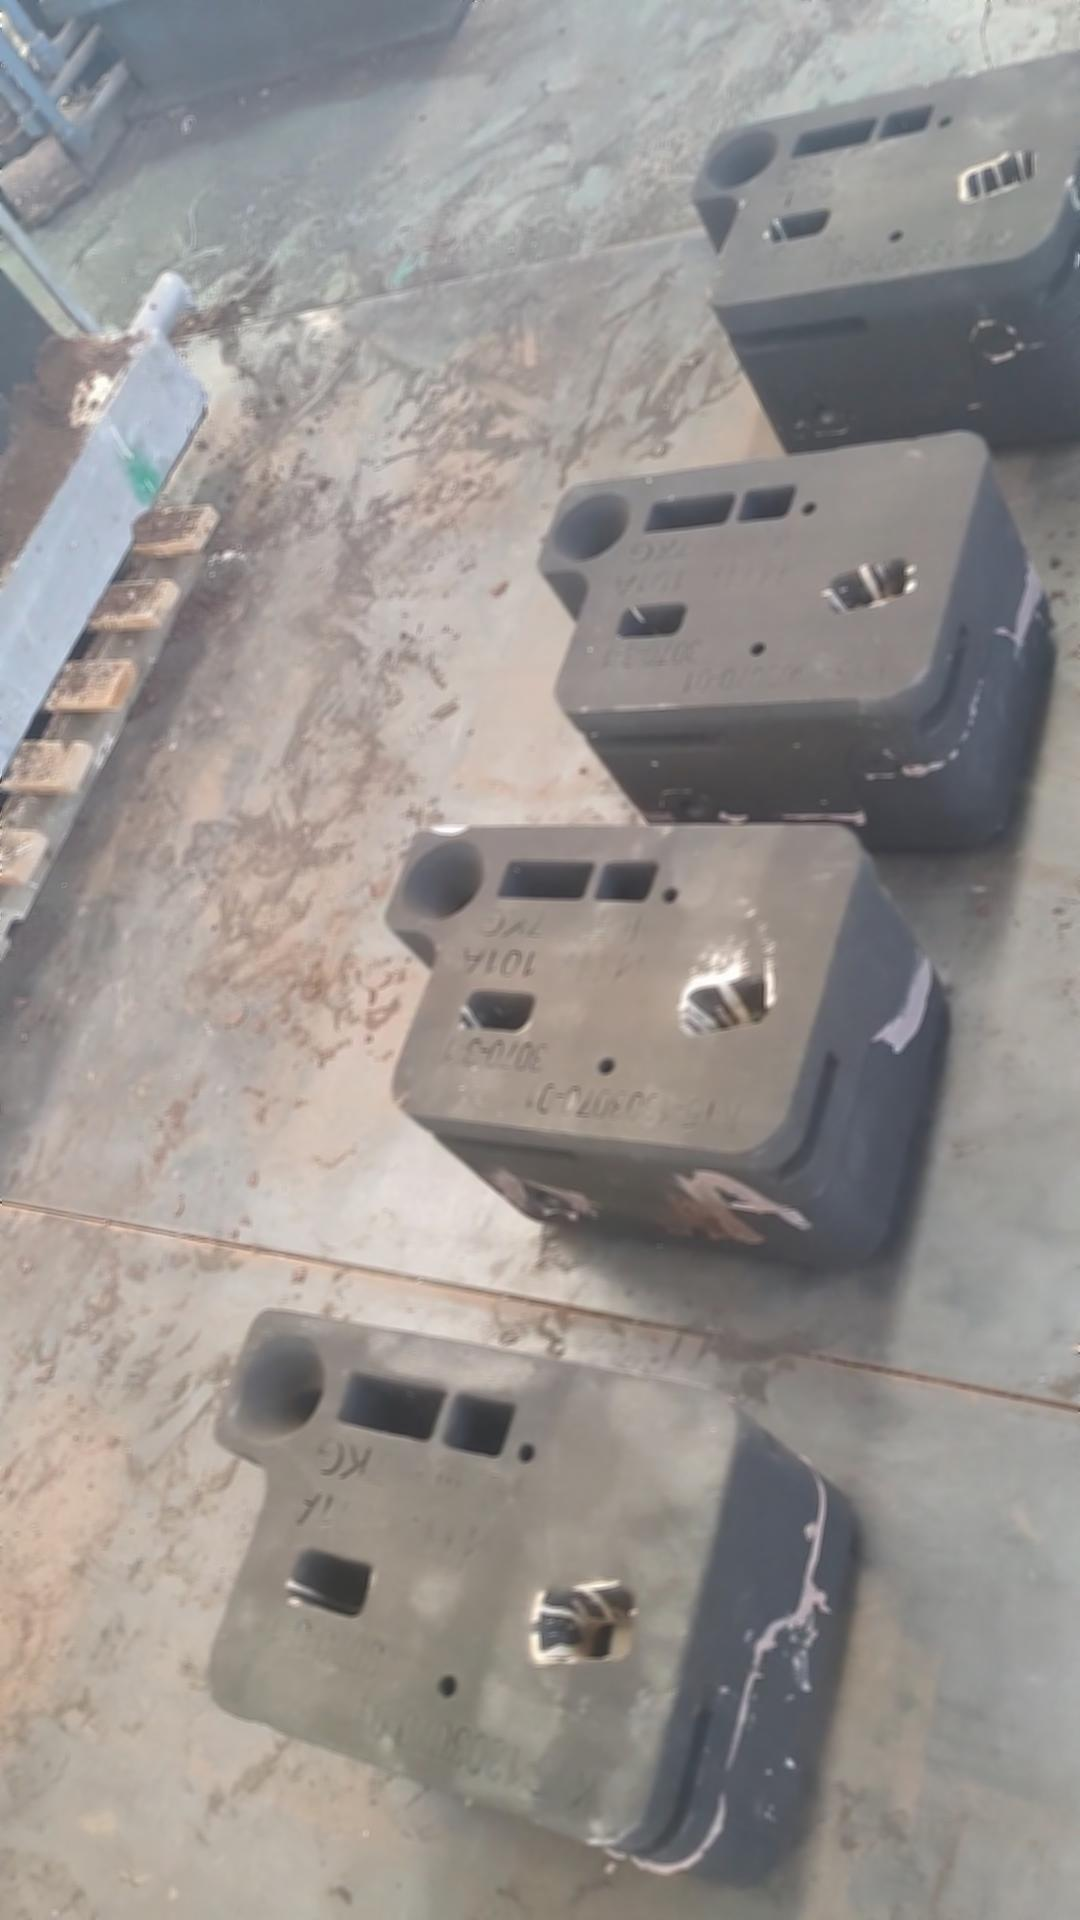pouring hole: (235, 1332, 324, 1439), (406, 840, 483, 918), (555, 495, 630, 560), (703, 131, 779, 189)
